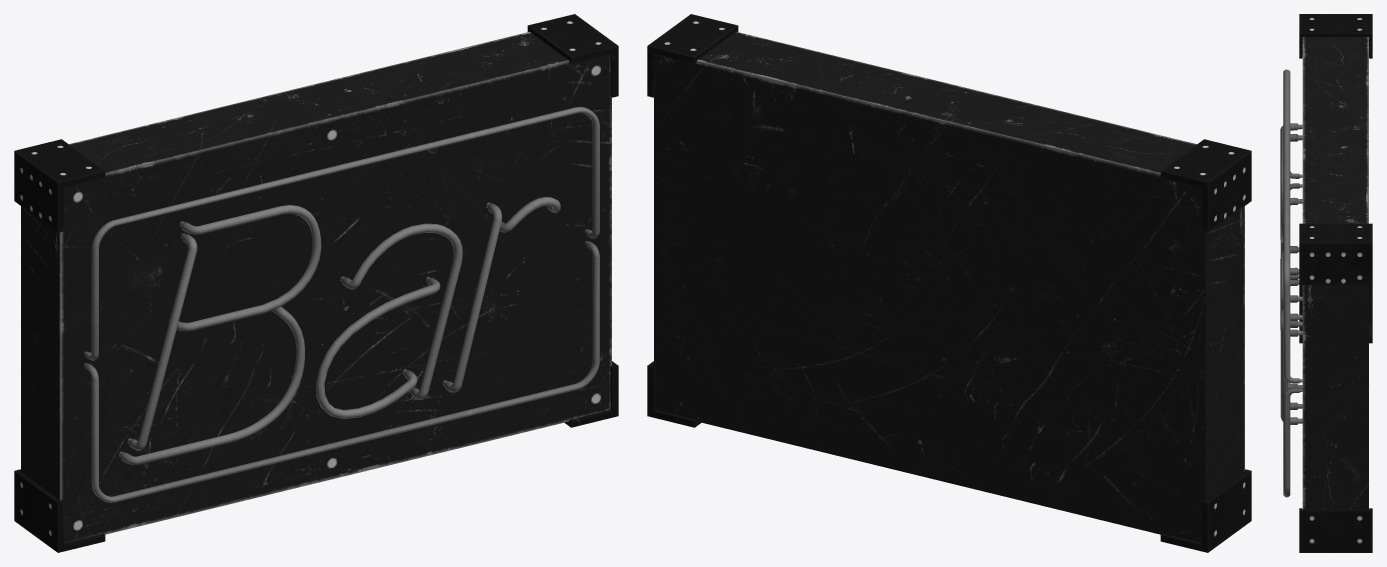
The model's file is Prop_BarSign.fbx.
The picture shows the model from 3 angles, left to right: view 1: azimuth 30°, elevation 25°; view 2: azimuth 150°, elevation 25°; view 3: azimuth 270°, elevation 25°; orthographic projection. The views are drawn at different scales.
Visible parts, largest first — view 1: Prop_BarSign; view 2: Prop_BarSign; view 3: Prop_BarSign.
Part boxes in pixels (<box>): Prop_BarSign: <box>14,14,618,552</box>; Prop_BarSign: <box>647,14,1251,552</box>; Prop_BarSign: <box>1280,14,1372,552</box>.
Size of the model in its own units: 58.53 by 36.93 by 9.94.
